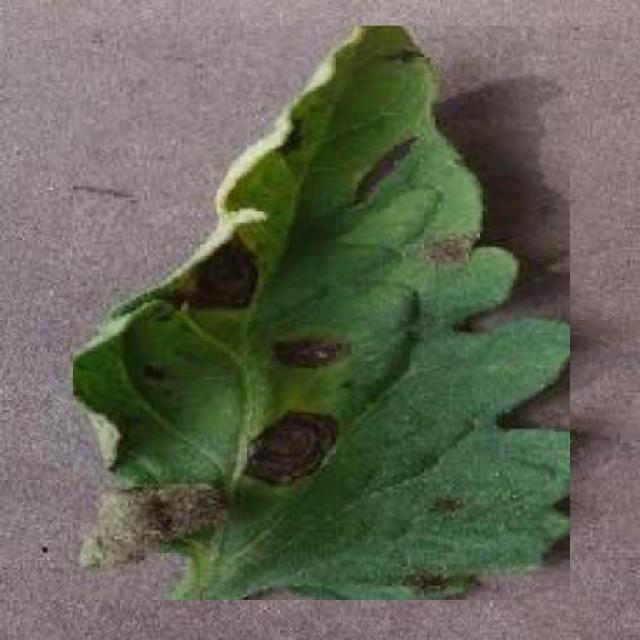Early Blight: (74, 26, 570, 601)
